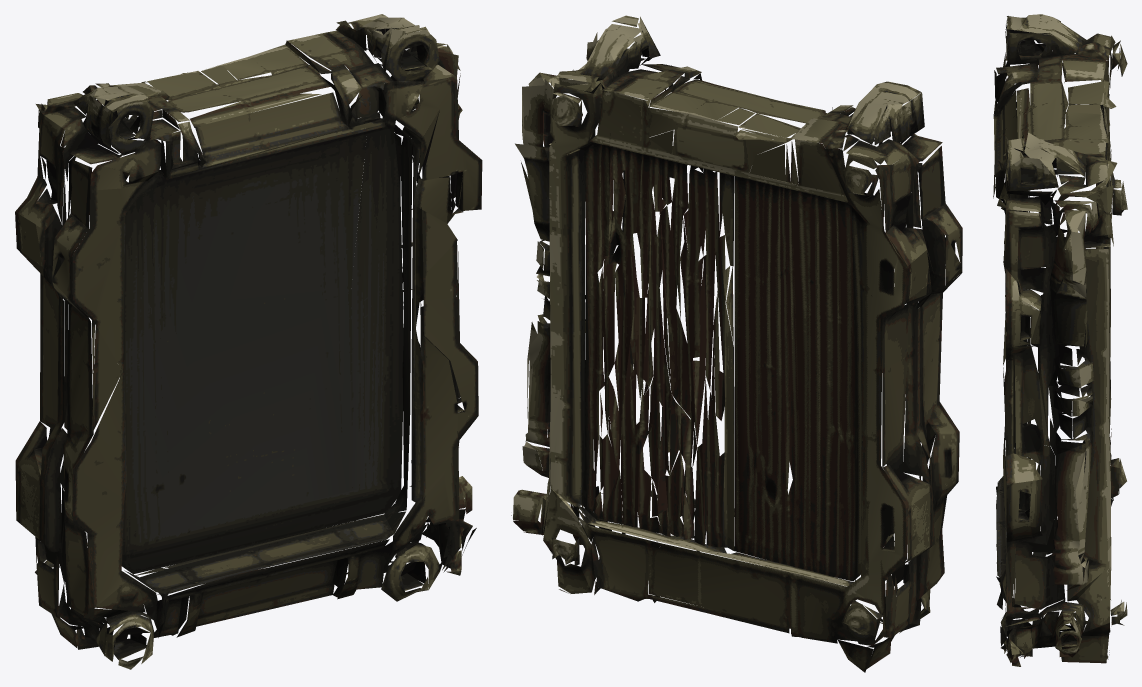
Rendered from mo_fins.glb.
The picture shows the model from 3 angles, left to right: view 1: azimuth 30°, elevation 25°; view 2: azimuth 150°, elevation 25°; view 3: azimuth 270°, elevation 25°; orthographic projection. The views are drawn at different scales.
Visible parts, largest first — view 1: mo_fins; view 2: mo_fins; view 3: mo_fins.
Boxes of the visible parts, <box> form: mo_fins: <box>15,14,482,669</box>; mo_fins: <box>511,15,962,672</box>; mo_fins: <box>993,14,1127,666</box>.
Size of the model in its own units: 0.1614 by 0.2 by 0.0477.
Materials: 1 (1 with a texture image).
